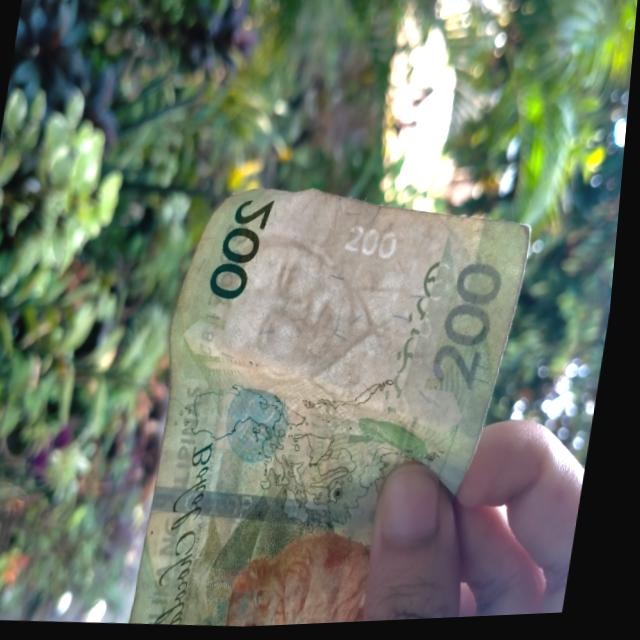security_thread: (160, 478, 394, 544)
see_through_mark: (384, 261, 456, 434)
value_watermark: (344, 217, 412, 267)
watermark: (214, 222, 414, 405)
